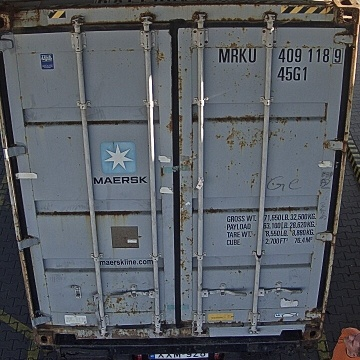serial_id: (219, 47, 342, 62)
